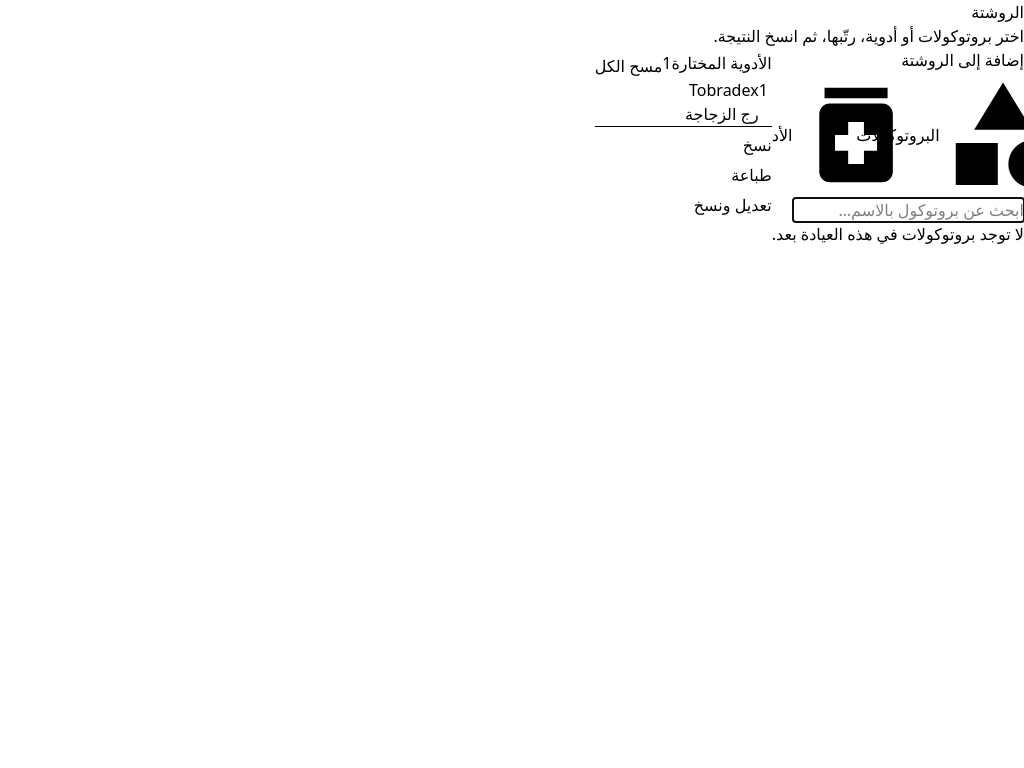
Test case: the pop-up @area:prescription › both fields in the template's order, labelled by their names, empty, focus on the first; nothing printed yet @TPL-110 @smoke
Click the button "طباعة": click(752, 175) [731,163,772,187]
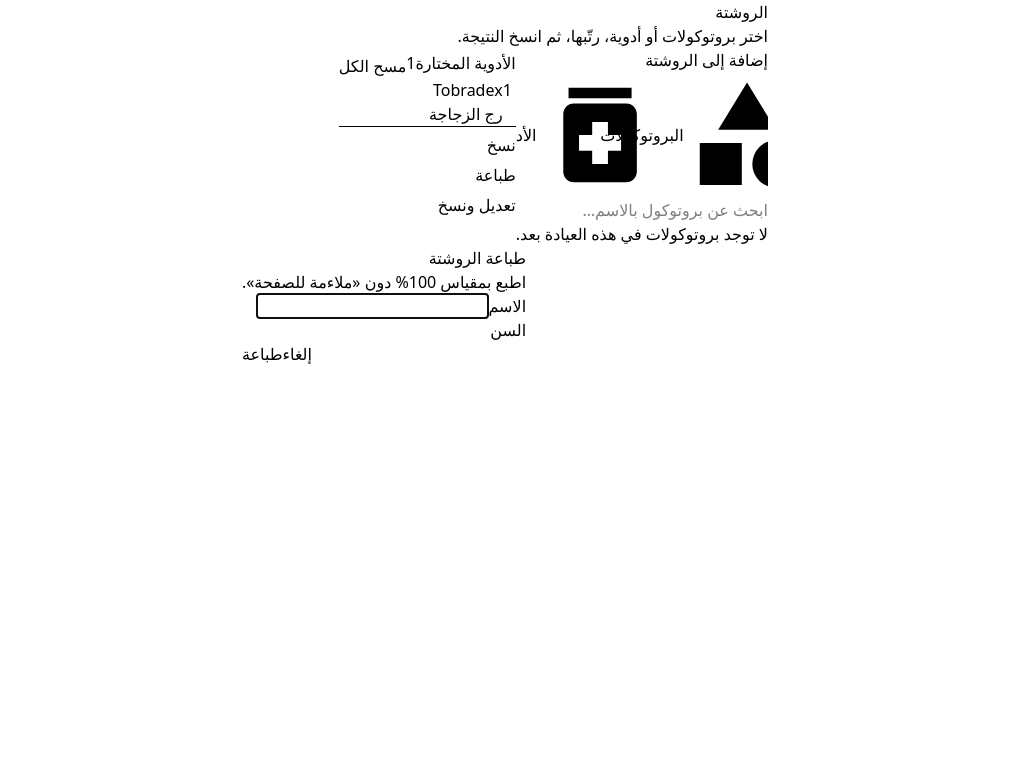
Now the number of fields is 2, box [258,294,488,318]; [259,318,490,342]
Now the field labelled "الاسم" is empty, box [258,294,488,318]
Now the field labelled "السن" is empty, box [259,318,490,342]
